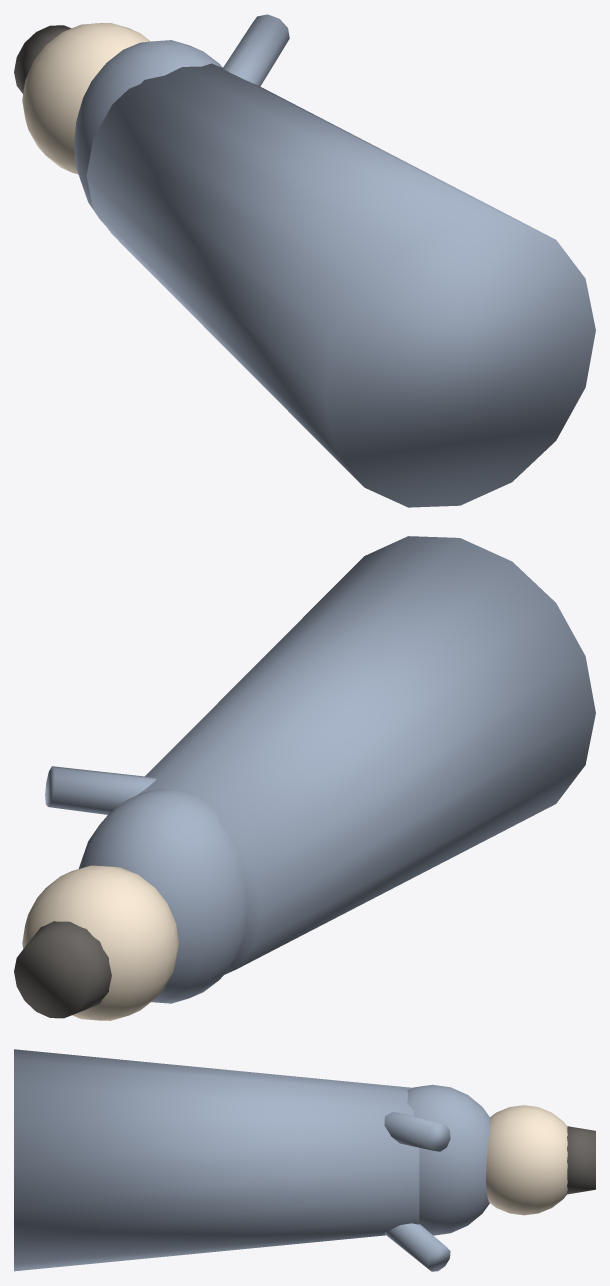
File: pedestrian.glb
3 views of the same model, one above another, from view 1: azimuth 30°, elevation 25°; view 2: azimuth 150°, elevation 25°; view 3: azimuth 270°, elevation 25° (orthographic). The views are drawn at different scales.
Visible parts, largest first — view 1: robe, head, torso, arm1, hat; view 2: robe, torso, head, hat, arm1; view 3: robe, torso, head, hat, arm1, arm0.
Part boxes in pixels (left/top/right/bottom): robe: left=86, top=63, right=595, bottom=507; head: left=22, top=23, right=150, bottom=174; torso: left=74, top=40, right=222, bottom=224; arm1: left=223, top=14, right=289, bottom=86; hat: left=14, top=25, right=71, bottom=93; robe: left=106, top=536, right=595, bottom=974; torso: left=78, top=788, right=249, bottom=1003; head: left=22, top=865, right=178, bottom=1020; hat: left=14, top=921, right=111, bottom=1018; arm1: left=45, top=766, right=155, bottom=814; robe: left=14, top=1049, right=419, bottom=1271; torso: left=407, top=1084, right=490, bottom=1235; head: left=486, top=1105, right=567, bottom=1215; hat: left=567, top=1126, right=595, bottom=1194; arm1: left=384, top=1112, right=450, bottom=1151; arm0: left=384, top=1223, right=450, bottom=1271.
Bounding box in the file's own units: 0.68 × 0.68 × 1.78.
